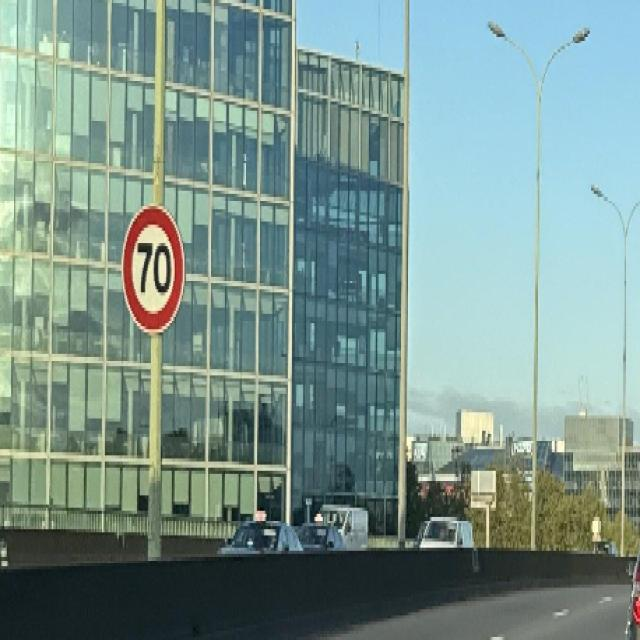speed_70: (121, 204, 186, 336)
